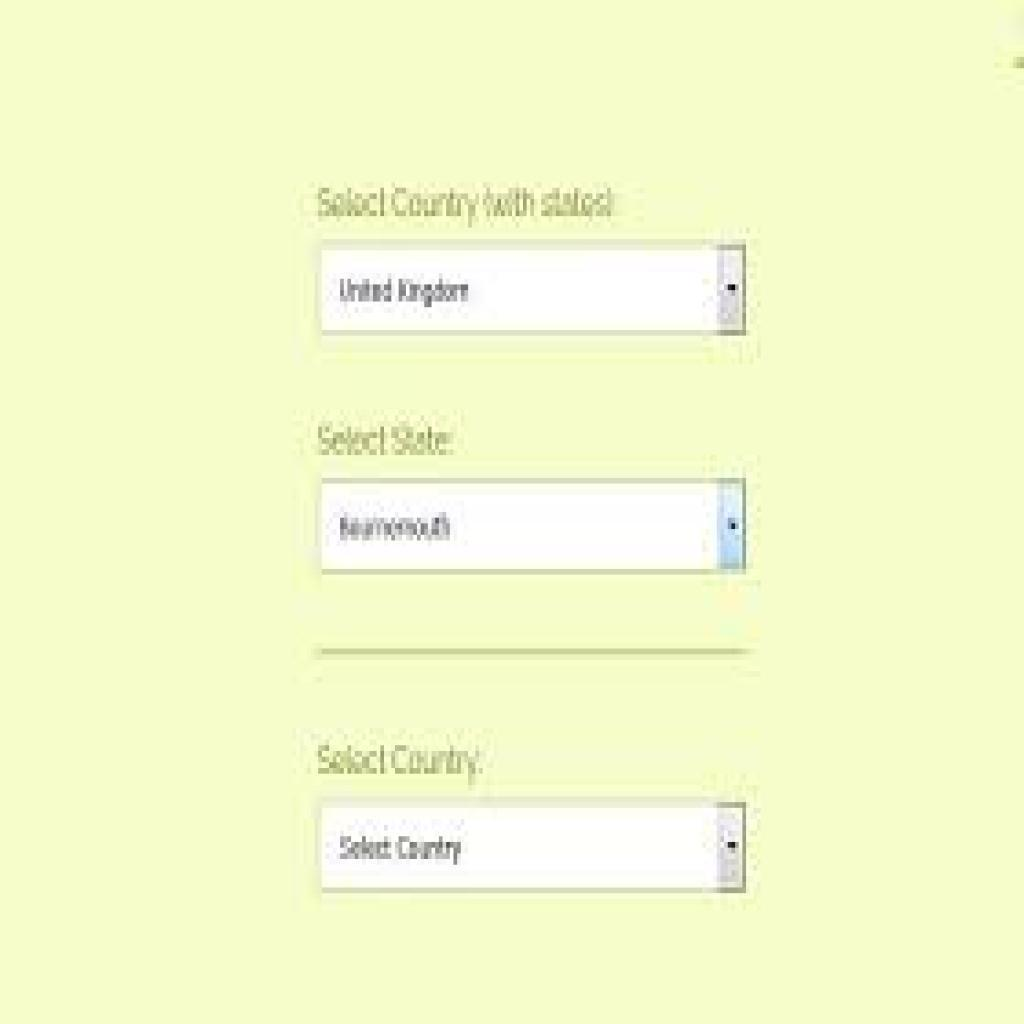dropdown: (319, 481, 749, 574), (319, 245, 746, 337), (318, 804, 749, 894)
